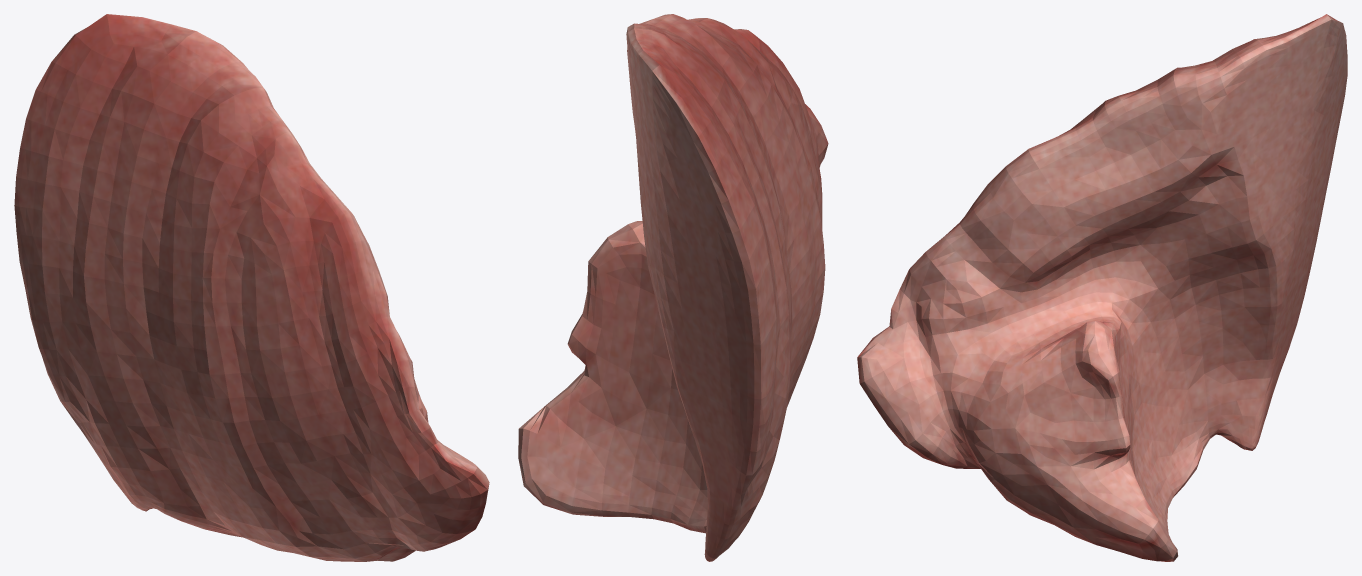
File: R_lung_cranial_lobe_LOW.glb
3 views of the same model, side by side, from view 1: azimuth 30°, elevation 25°; view 2: azimuth 150°, elevation 25°; view 3: azimuth 270°, elevation 25° (orthographic). The views are drawn at different scales.
Parts seen in each view (by area): view 1: R_lung_cranial_lobe_LOW; view 2: R_lung_cranial_lobe_LOW; view 3: R_lung_cranial_lobe_LOW.
Part boxes in pixels (x1,y1,x2,y2): R_lung_cranial_lobe_LOW: (14,14,489,561); R_lung_cranial_lobe_LOW: (518,14,828,561); R_lung_cranial_lobe_LOW: (857,14,1347,561).
Bounding box in the file's own units: 0.00273 × 0.00423 × 0.00402.
1 material, 1 textured.
